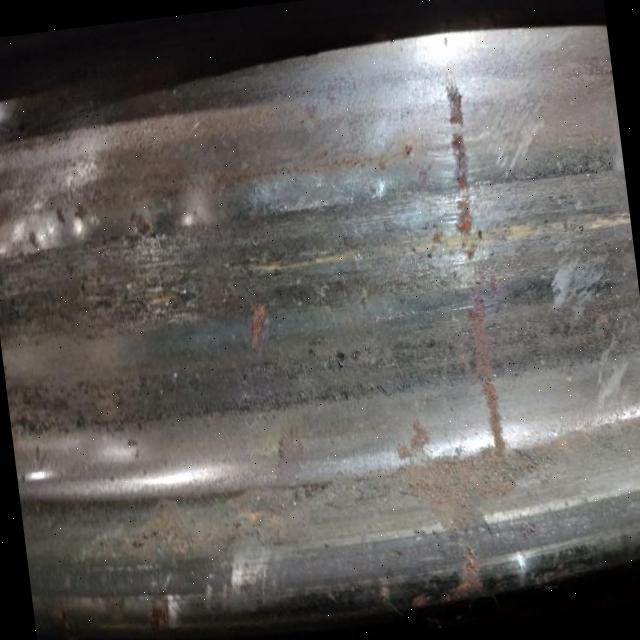Blue hole: (328, 346, 353, 378)
Rollerpile: (87, 266, 201, 328)
